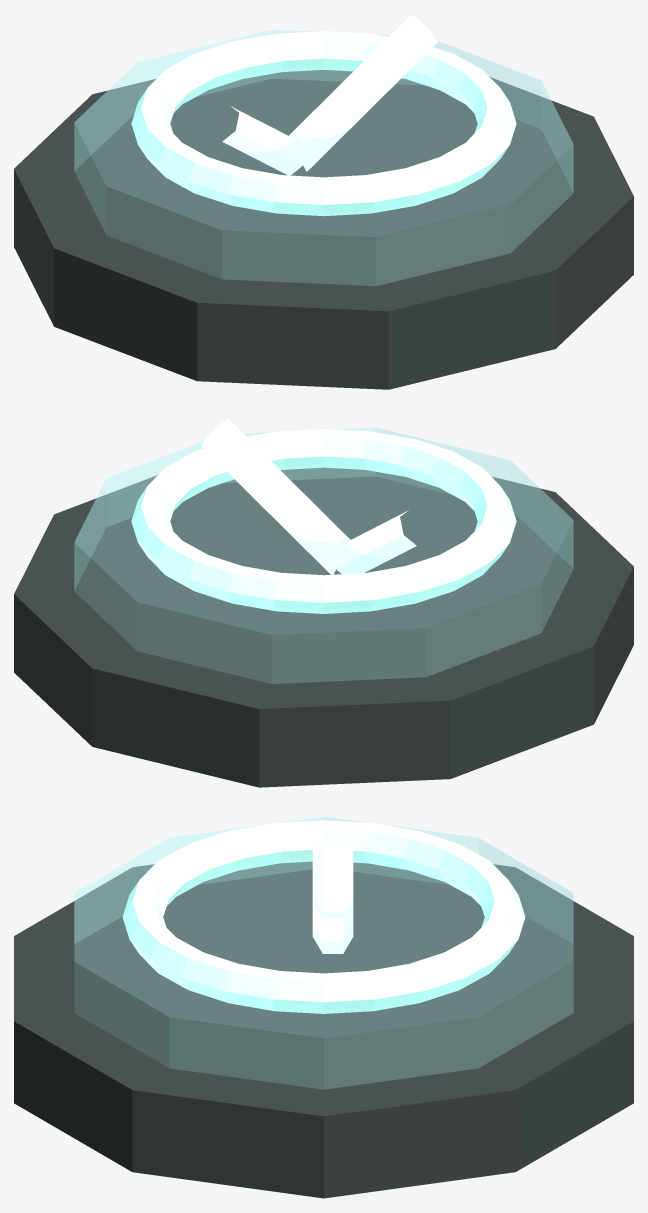
The model's file is verification-marker.glb.
The picture shows the model from 3 angles, top to bottom: view 1: azimuth 30°, elevation 25°; view 2: azimuth 150°, elevation 25°; view 3: azimuth 270°, elevation 25°; orthographic projection. The views are drawn at different scales.
Visible parts, largest first — view 1: Verification_Base, Verification_Field, Verification_Ring, Verification_Tick_B, Verification_Tick_A; view 2: Verification_Base, Verification_Field, Verification_Ring, Verification_Tick_B, Verification_Tick_A; view 3: Verification_Base, Verification_Field, Verification_Ring, Verification_Tick_A, Verification_Tick_B.
Part boxes in pixels (bbox=[...]): Verification_Base: bbox=[14, 70, 633, 389]; Verification_Field: bbox=[74, 29, 573, 285]; Verification_Ring: bbox=[131, 31, 516, 216]; Verification_Tick_B: bbox=[289, 14, 437, 171]; Verification_Tick_A: bbox=[222, 106, 302, 175]; Verification_Base: bbox=[14, 467, 633, 787]; Verification_Field: bbox=[74, 427, 573, 683]; Verification_Ring: bbox=[131, 429, 516, 613]; Verification_Tick_B: bbox=[201, 418, 350, 574]; Verification_Tick_A: bbox=[336, 510, 416, 574]; Verification_Base: bbox=[14, 861, 633, 1198]; Verification_Field: bbox=[74, 816, 573, 1089]; Verification_Ring: bbox=[122, 820, 525, 1013]; Verification_Tick_A: bbox=[312, 840, 353, 918]; Verification_Tick_B: bbox=[312, 901, 353, 953].
Size of the model in its own units: 1.44 by 0.5517 by 1.37.
